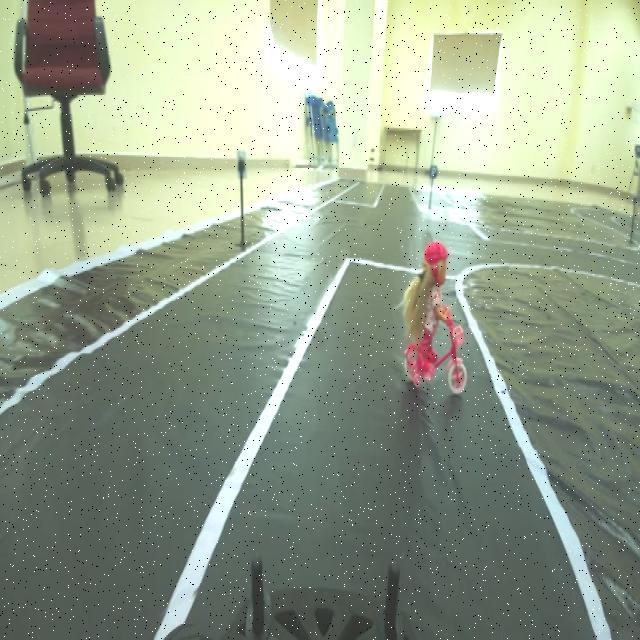pedestrian: (398, 249, 470, 385)
